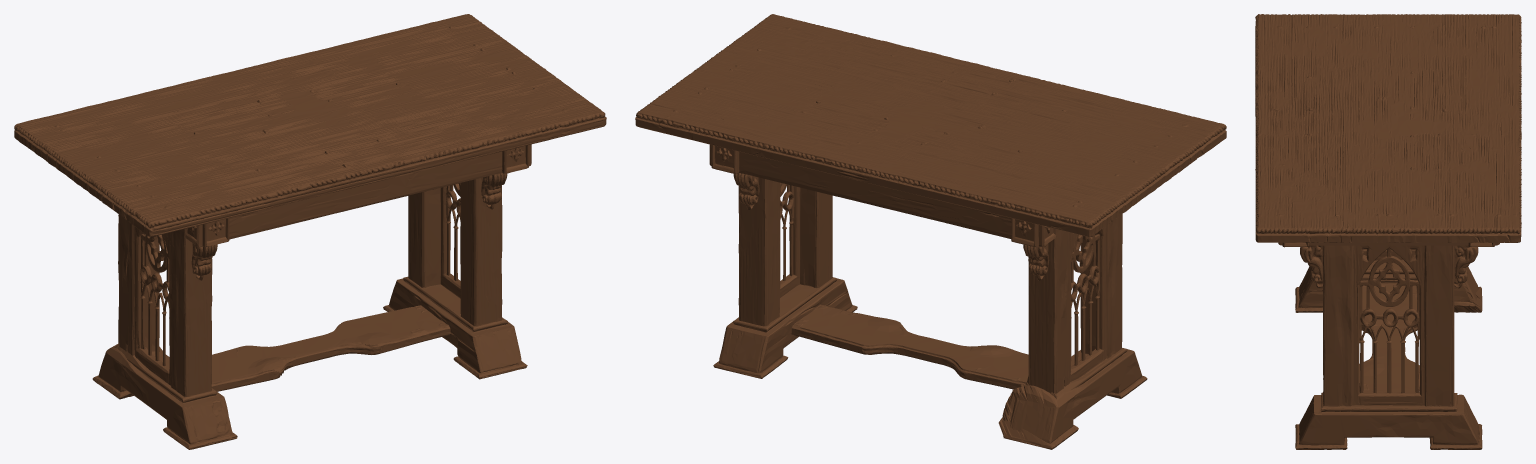
The model's file is table.glb.
3 renders of one model, left to right at view 1: azimuth 30°, elevation 25°; view 2: azimuth 150°, elevation 25°; view 3: azimuth 270°, elevation 25°, orthographic. The views are drawn at different scales.
Visible parts, largest first — view 1: ROG_TABLE_HYPER3D_MASTER; view 2: ROG_TABLE_HYPER3D_MASTER; view 3: ROG_TABLE_HYPER3D_MASTER.
Part boxes in pixels (box(x1,y1,x2,y2)): ROG_TABLE_HYPER3D_MASTER: box(14, 14, 606, 449); ROG_TABLE_HYPER3D_MASTER: box(635, 14, 1226, 449); ROG_TABLE_HYPER3D_MASTER: box(1255, 14, 1521, 449).
Size of the model in its own units: 3.53 by 1.9 by 1.83.
